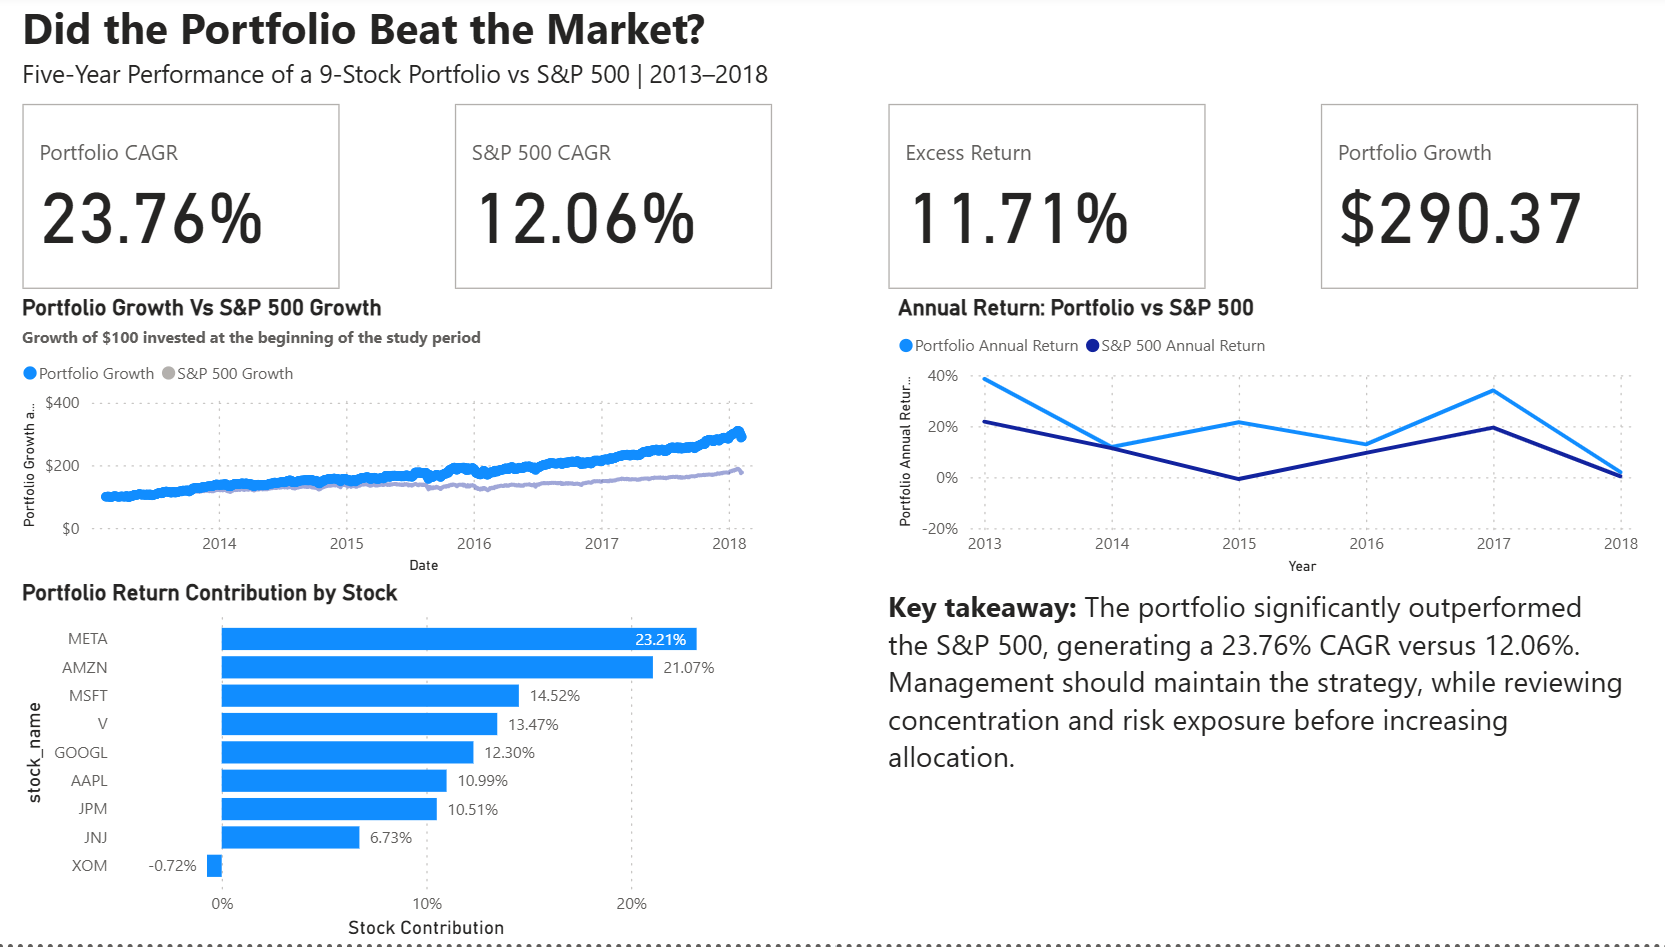

Layout of this report page (visuals, bound fields, positions):
{"tool":"powerbi","page":{"name":"Executive Overview","canvas":[1280,720],"ordinal":2},"visuals":[{"type":"textbox","box":[25,0,919.2,60.5],"z":0},{"type":"textbox","box":[25,43.5,928.6,64.3],"z":1000},{"type":"cardVisual","fields":{"Data":["stock_returns.Portfolio CAGR"]},"box":[25,80,250,150],"z":2000},{"type":"cardVisual","fields":{"Data":["benchmark_returns.S&P 500 CAGR"]},"box":[352,80,250,150],"z":3000},{"type":"cardVisual","fields":{"Data":["stock_returns.Excess Return"]},"box":[679,80,250,150],"z":4000},{"type":"cardVisual","fields":{"Data":["stock_returns.Portfolio Growth"]},"box":[1006,80,250,150],"z":5000},{"type":"lineChart","title":"Portfolio Growth Vs S&P 500 Growth ","fields":{"Category":["DimDate.Date"],"Y":["stock_returns.Portfolio Growth","benchmark_returns.S&P 500 Growth"]},"box":[24.6,228.8,567.4,215.6],"z":6000},{"type":"lineChart","title":"Annual Return: Portfolio vs S&P 500 ","fields":{"Category":["DimDate.Year"],"Y":["stock_returns.Portfolio Annual Return","benchmark_returns.S&P 500 Annual Return"]},"box":[686.5,228.8,569.3,215.6],"z":7000},{"type":"barChart","title":"Portfolio Return Contribution by Stock","fields":{"Category":["stock_returns.stock_name"],"Y":["stock_returns.Stock Contribution"]},"box":[25,444.4,559.8,276.1],"z":8000},{"type":"textbox","box":[679,444.4,569.3,266.7],"z":9000}]}

Visuals, with their boxes in screenshot pixels (x1, y1, x2, y2), scaled from the page's 1280x720 canvas onto the 1665x947 screenshot:
textbox: l=33, t=0, r=1228, b=80
textbox: l=33, t=57, r=1240, b=142
cardVisual - stock_returns.Portfolio CAGR: l=33, t=105, r=358, b=303
cardVisual - benchmark_returns.S&P 500 CAGR: l=458, t=105, r=783, b=303
cardVisual - stock_returns.Excess Return: l=883, t=105, r=1208, b=303
cardVisual - stock_returns.Portfolio Growth: l=1309, t=105, r=1634, b=303
"Portfolio Growth Vs S&P 500 Growth " lineChart: l=32, t=301, r=770, b=585
"Annual Return: Portfolio vs S&P 500 " lineChart: l=893, t=301, r=1634, b=585
"Portfolio Return Contribution by Stock" barChart: l=33, t=585, r=761, b=946
textbox: l=883, t=585, r=1624, b=935
